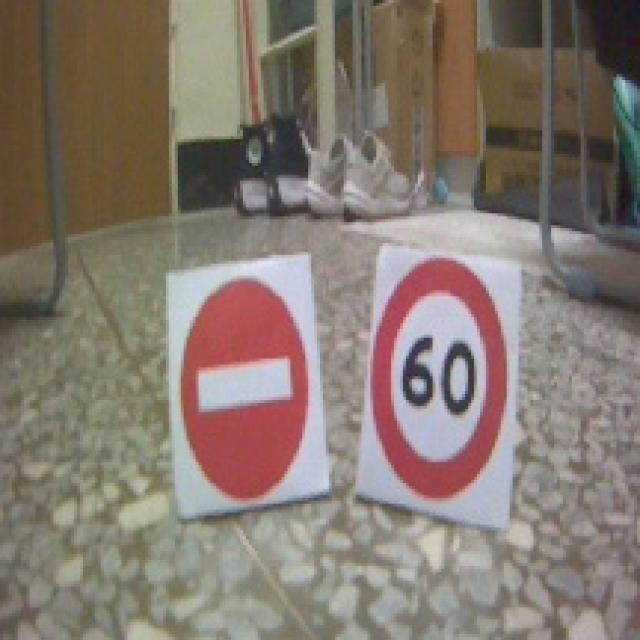DoNotEnterSign: (182, 276, 310, 499)
